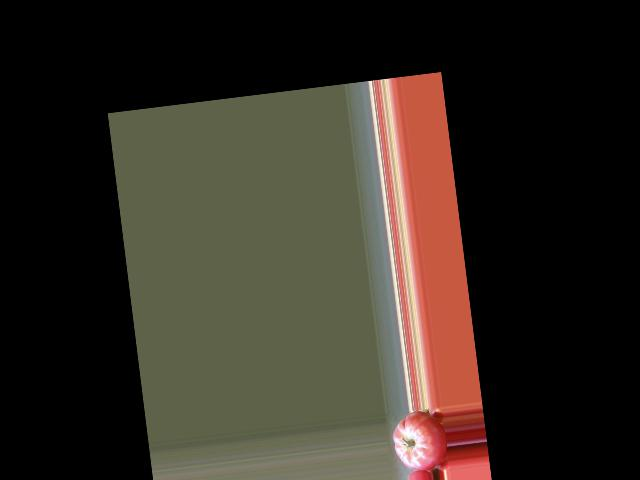tomato: (390, 407, 450, 473)
